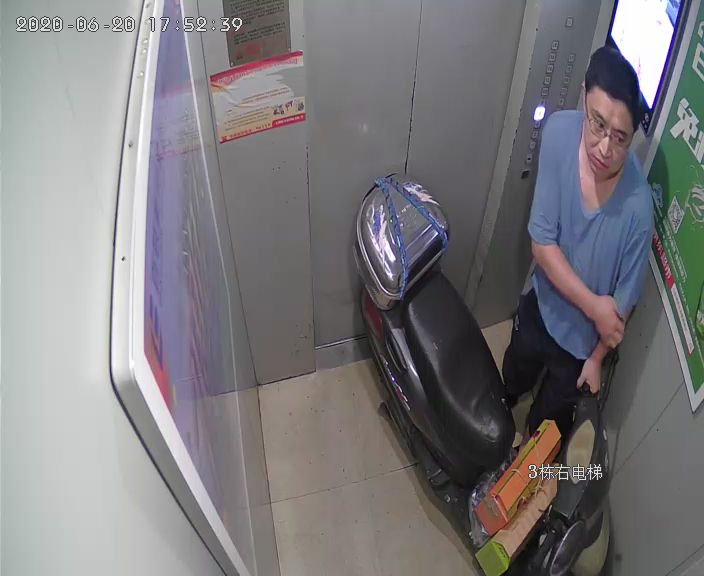Electric-bicycle: (351, 174, 612, 571)
